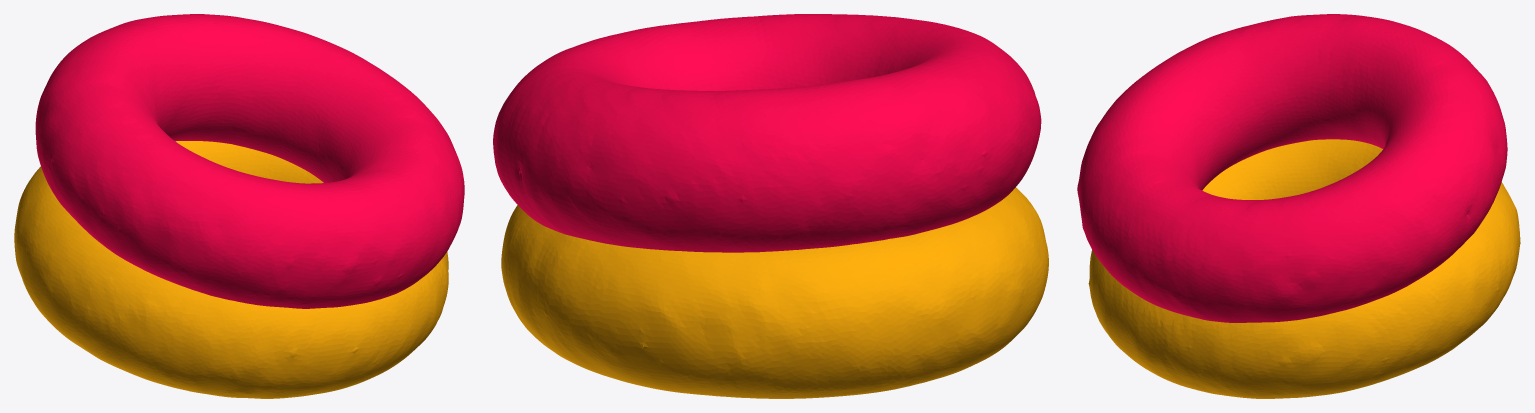
The model's file is Mpm3DObject_1.obj.
3 views of the same model, side by side, from view 1: azimuth 30°, elevation 25°; view 2: azimuth 150°, elevation 25°; view 3: azimuth 270°, elevation 25° (orthographic). The views are drawn at different scales.
Size of the model in its own units: 0.6082 by 0.4012 by 0.6039.
